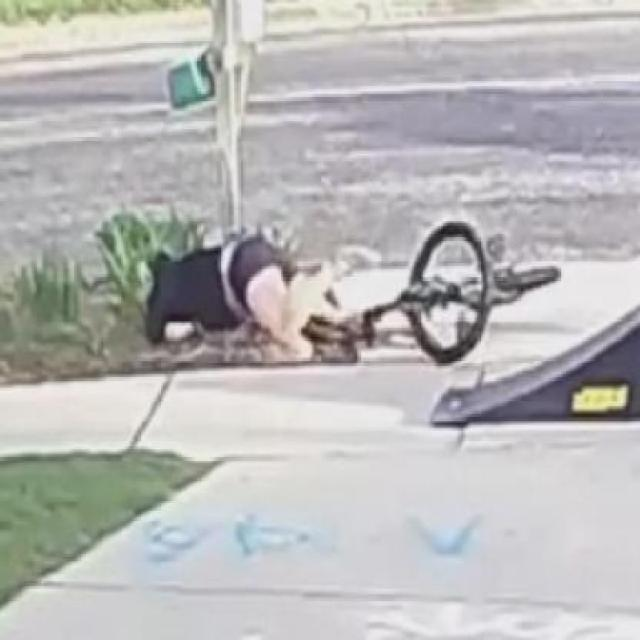fall: (132, 218, 352, 365)
